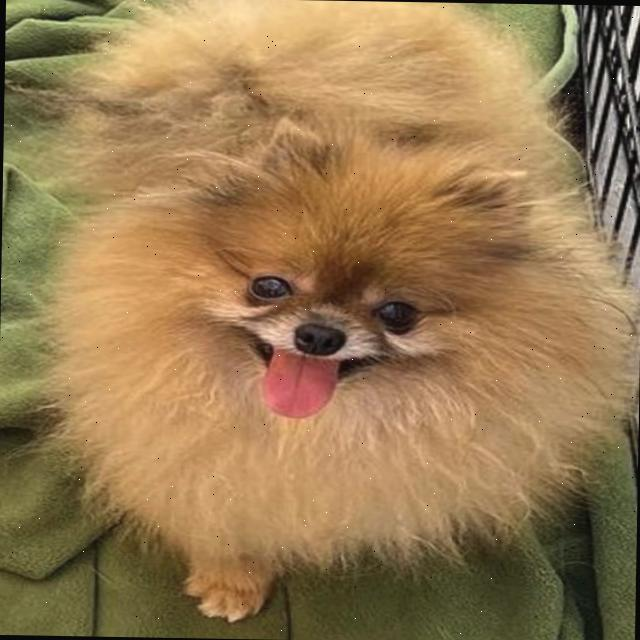pomeranian_dog: (148, 110, 570, 463)
